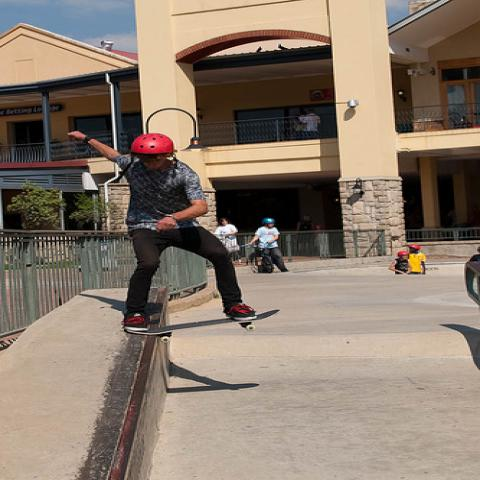car: (464, 245, 479, 307)
